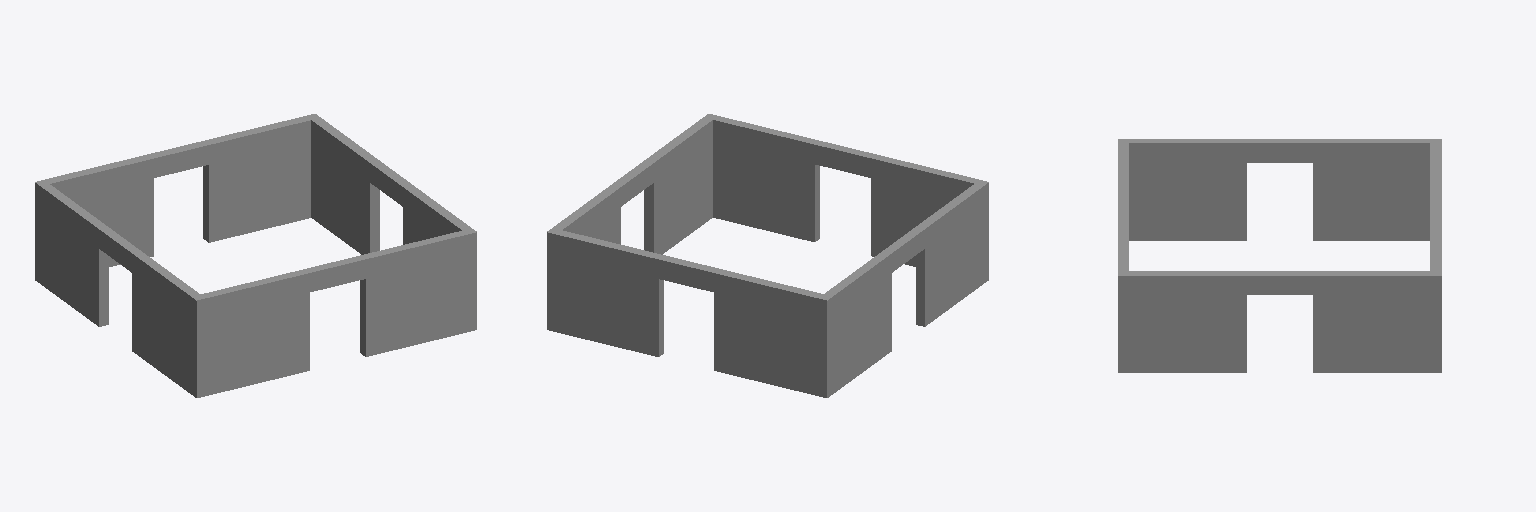
File: simpleroom.obj
3 views of the same model, side by side, from view 1: azimuth 30°, elevation 25°; view 2: azimuth 150°, elevation 25°; view 3: azimuth 270°, elevation 25° (orthographic).
Visible parts, largest first — view 1: Plane; view 2: Plane; view 3: Plane.
Boxes of the visible parts, box(x1,y1,x2,y2) form: Plane: box(35, 114, 476, 397); Plane: box(547, 114, 988, 397); Plane: box(1118, 139, 1441, 372).
Size of the model in its own units: 30.03 by 10 by 30.03.